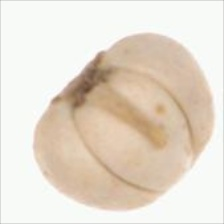L5: (69, 65, 200, 197), (50, 50, 115, 113)
L6: (31, 30, 216, 214)
